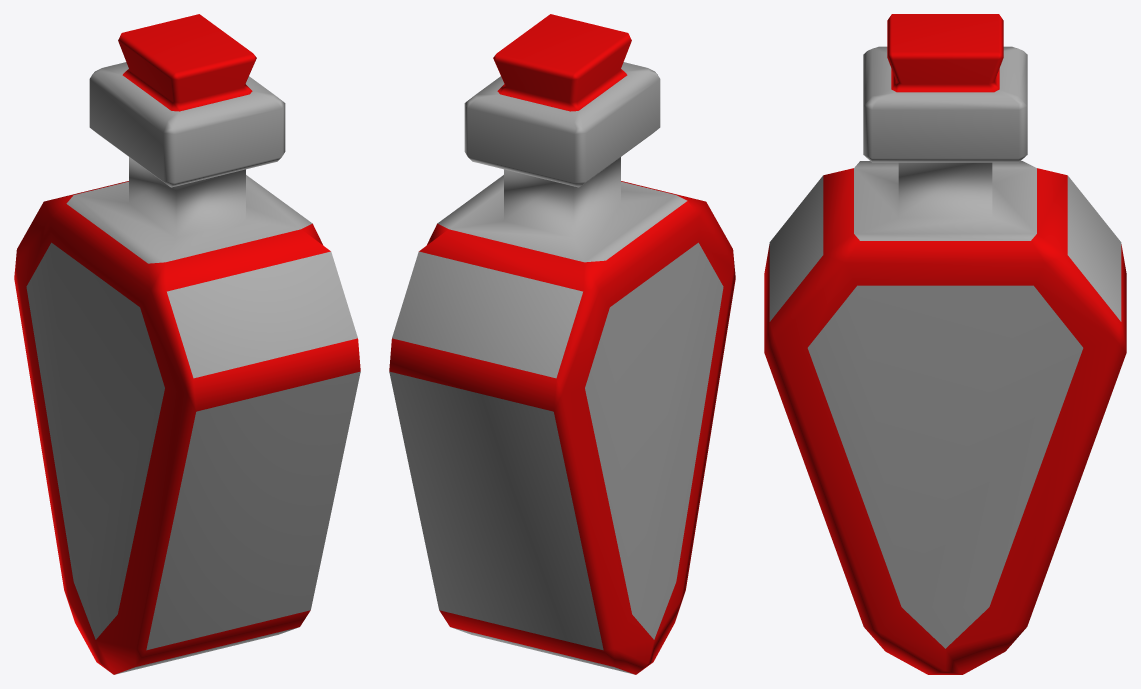
The model's file is Potion Shield.fbx.
3 views of the same model, side by side, from view 1: azimuth 30°, elevation 25°; view 2: azimuth 150°, elevation 25°; view 3: azimuth 270°, elevation 25° (orthographic).
Parts seen in each view (by area): view 1: pCube29; view 2: pCube29; view 3: pCube29.
Part boxes in pixels (x1,y1,x2,y2): pCube29: [14, 14, 360, 674]; pCube29: [389, 14, 735, 674]; pCube29: [764, 14, 1126, 674].
Bounding box in the file's own units: 0.4752 × 1.5 × 0.8165.
